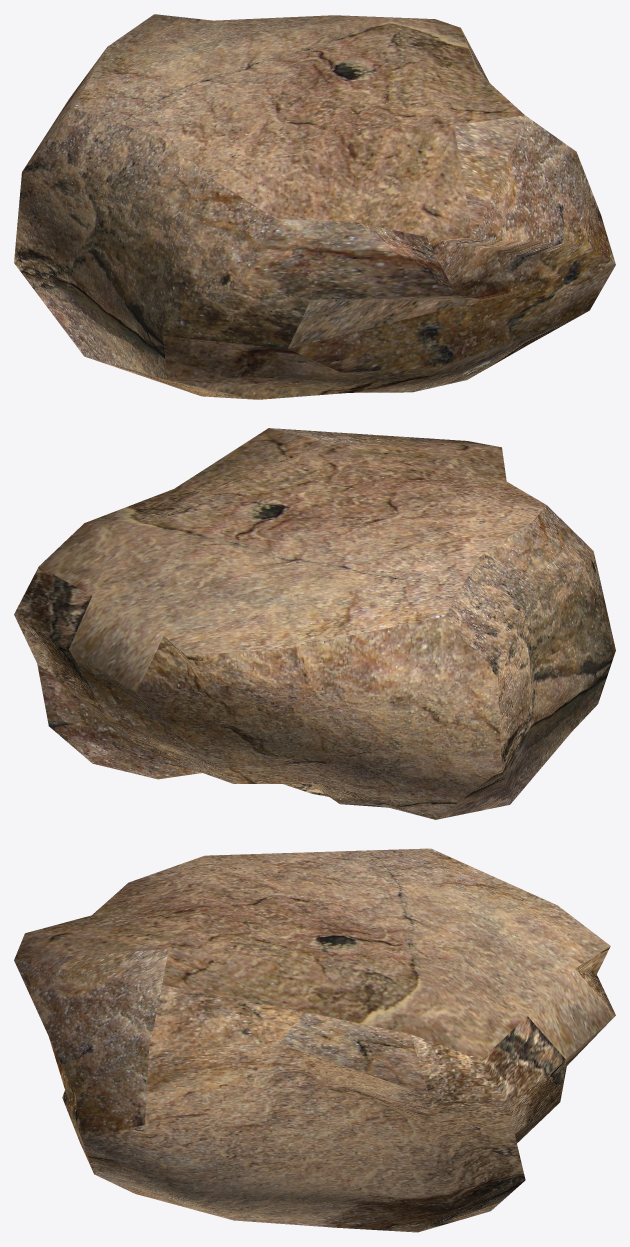
File: Rock.obj
The picture shows the model from 3 angles, top to bottom: view 1: azimuth 30°, elevation 25°; view 2: azimuth 150°, elevation 25°; view 3: azimuth 270°, elevation 25°; orthographic projection.
Parts seen in each view (by area): view 1: Cube; view 2: Cube; view 3: Cube.
Boxes of the visible parts, bbox=[...] form: Cube: bbox=[14, 14, 615, 399]; Cube: bbox=[14, 428, 615, 819]; Cube: bbox=[14, 848, 615, 1232].
Size of the model in its own units: 3.18 by 1.68 by 3.63.
